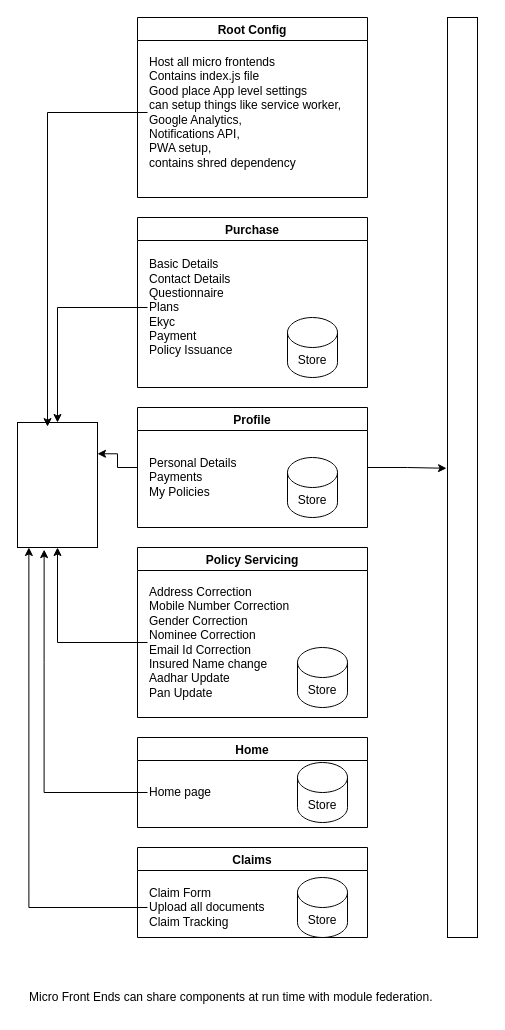
This 505x1030 diagram has some shape labels left out. Each missing label, with the centre of its shape:
APi GateWay: [462,477]
Global shared state using RxJs, Custome Events Session storage Local Storage: [57,485]
